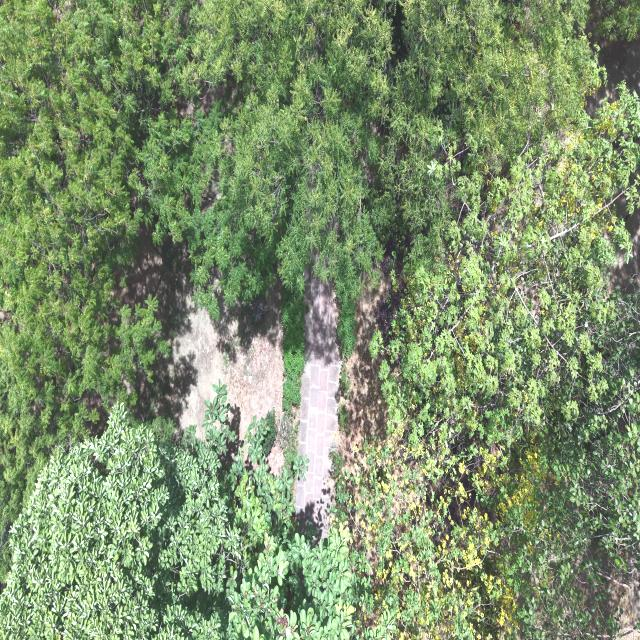DRY_AREA: (123, 226, 283, 445), (131, 231, 283, 437), (296, 274, 401, 536), (296, 274, 392, 538), (296, 276, 392, 538), (174, 288, 283, 440), (334, 255, 403, 495), (118, 225, 197, 421), (339, 256, 404, 492), (341, 257, 406, 474), (340, 273, 401, 473), (296, 274, 340, 537), (296, 278, 340, 535), (296, 360, 339, 536), (586, 38, 639, 116), (610, 195, 639, 291), (610, 196, 639, 290), (609, 210, 639, 291), (610, 566, 639, 639)
PATHWAYS: (296, 275, 340, 537)
VEGETATION_TREE: (0, 0, 639, 639), (0, 1, 392, 522), (338, 2, 639, 639), (350, 94, 639, 639), (0, 1, 166, 527), (0, 400, 353, 639), (136, 1, 393, 314), (389, 0, 603, 230), (281, 287, 305, 463), (595, 0, 639, 39)
